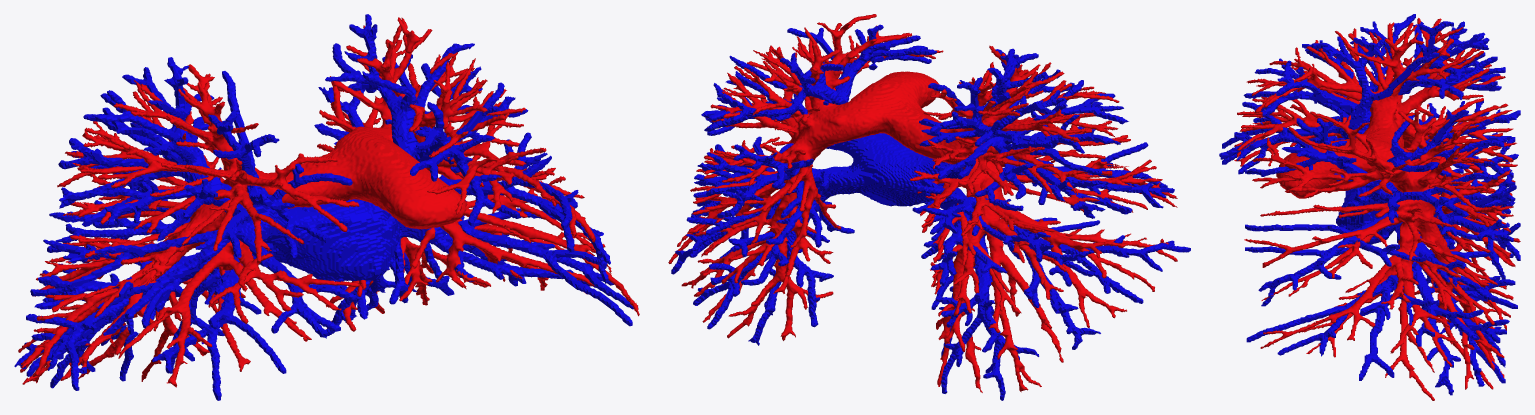
Rendered from lungv.glb.
3 views of the same model, side by side, from view 1: azimuth 30°, elevation 25°; view 2: azimuth 150°, elevation 25°; view 3: azimuth 270°, elevation 25° (orthographic). The views are drawn at different scales.
Visible parts, largest first — view 1: temp_2, temp_1; view 2: temp_2, temp_1; view 3: temp_1, temp_2.
Boxes of the visible parts, box(x1,y1,x2,y2) form: temp_2: box(14, 14, 638, 400); temp_1: box(18, 17, 639, 387); temp_2: box(671, 24, 1190, 400); temp_1: box(668, 14, 1177, 392); temp_1: box(1234, 18, 1520, 400); temp_2: box(1219, 14, 1520, 395).
Size of the model in its own units: 369 by 216 by 222.
